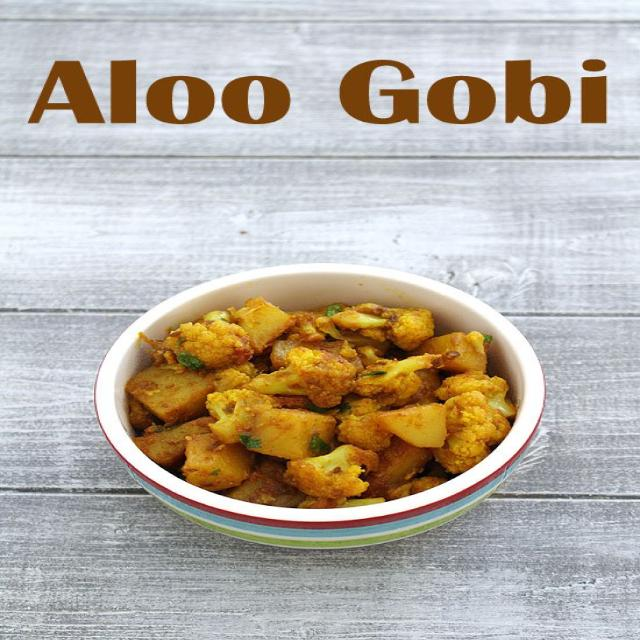aloo_gobi: (157, 274, 540, 522)
